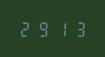nine: (35, 20, 51, 37)
one: (52, 20, 68, 37)
three: (69, 20, 85, 37)
two: (18, 20, 34, 37)
